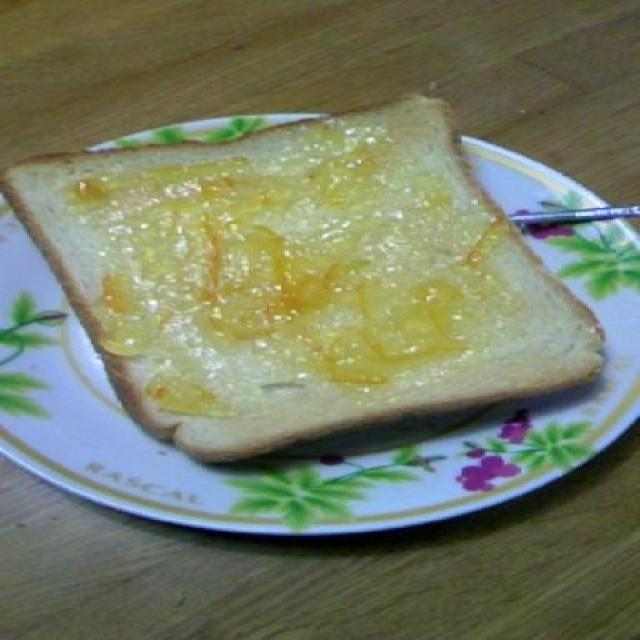面包点心: (0, 72, 640, 556)
